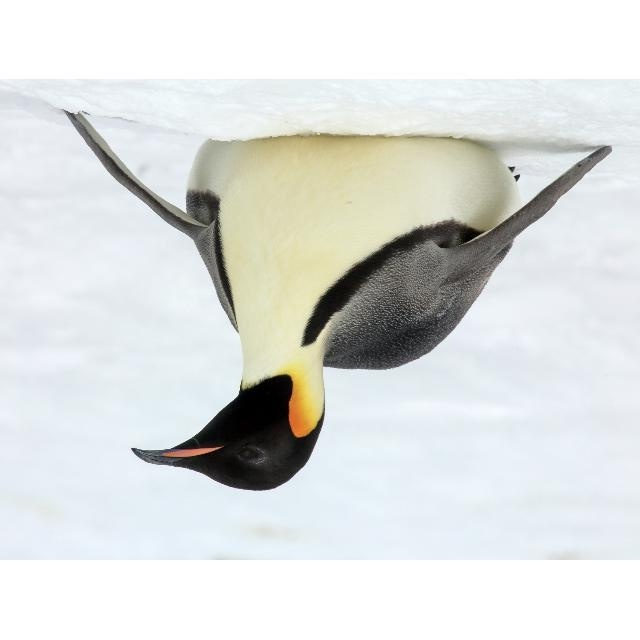penguin: (62, 108, 614, 491)
